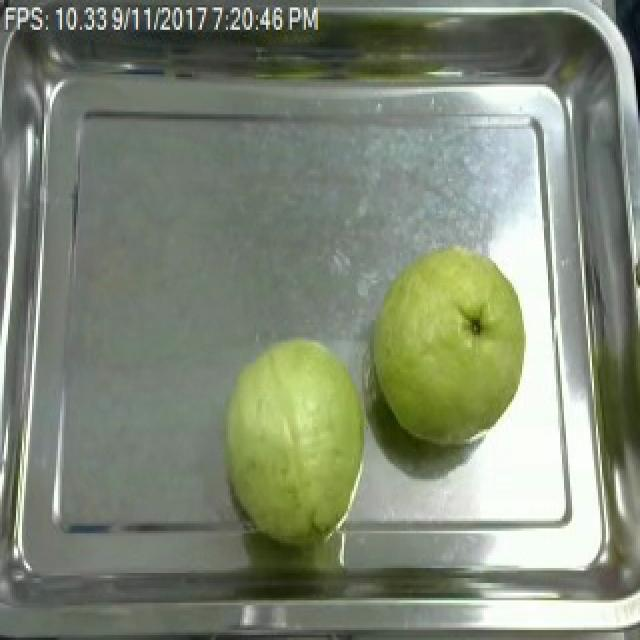Fruit: (362, 236, 540, 452), (212, 328, 376, 544)
